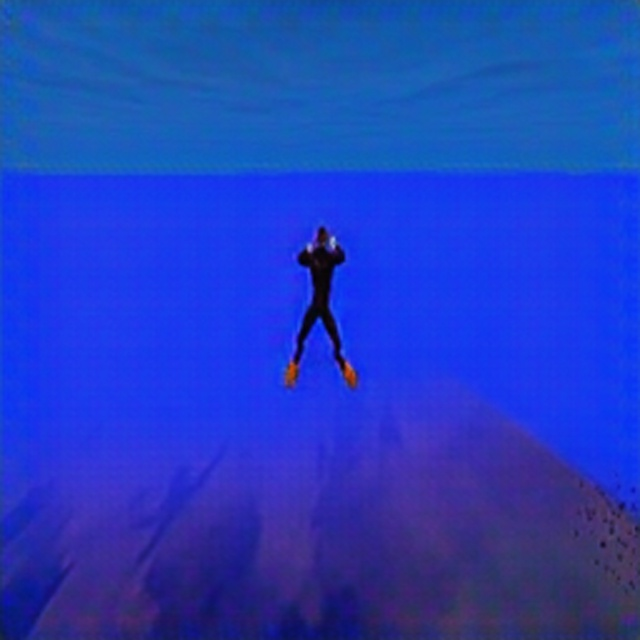diver: (288, 223, 358, 388)
